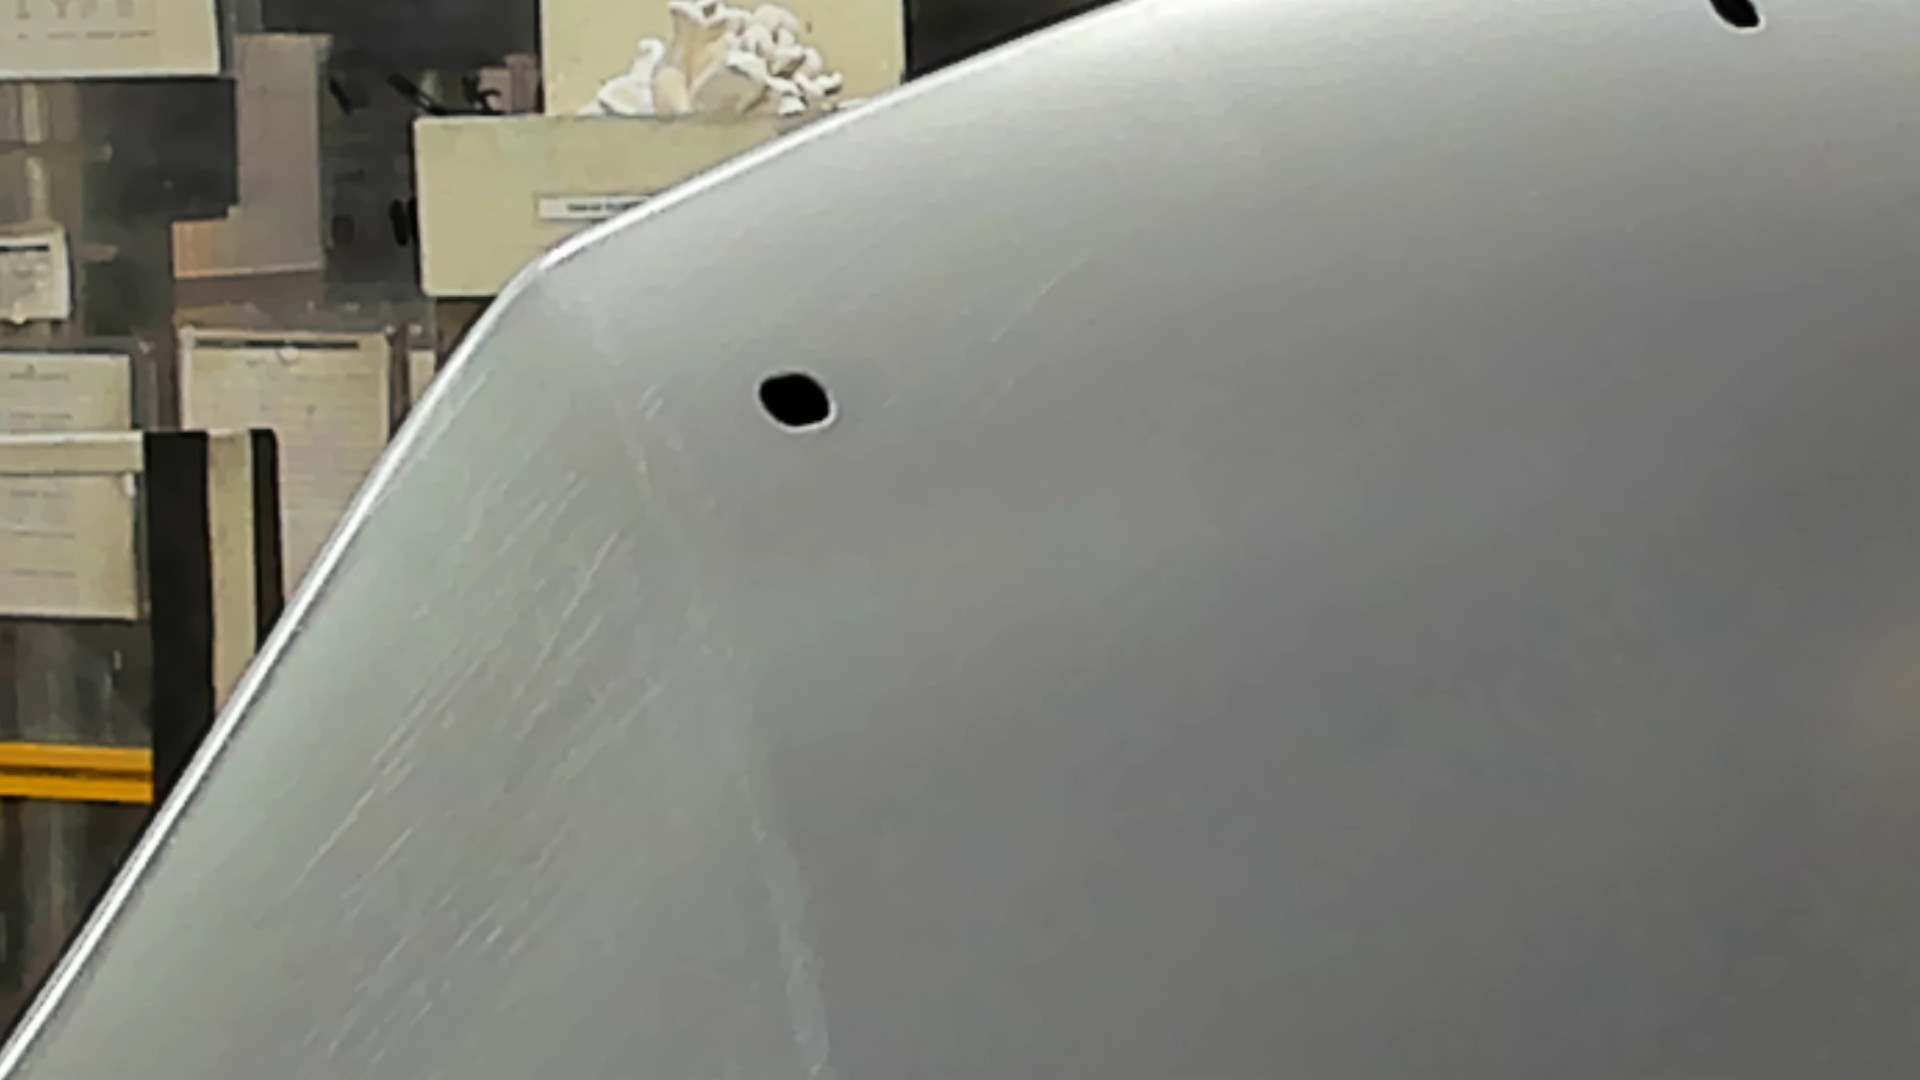amorfo: (746, 363, 843, 436), (1706, 1, 1768, 38)
capo: (949, 94, 1920, 1080)
